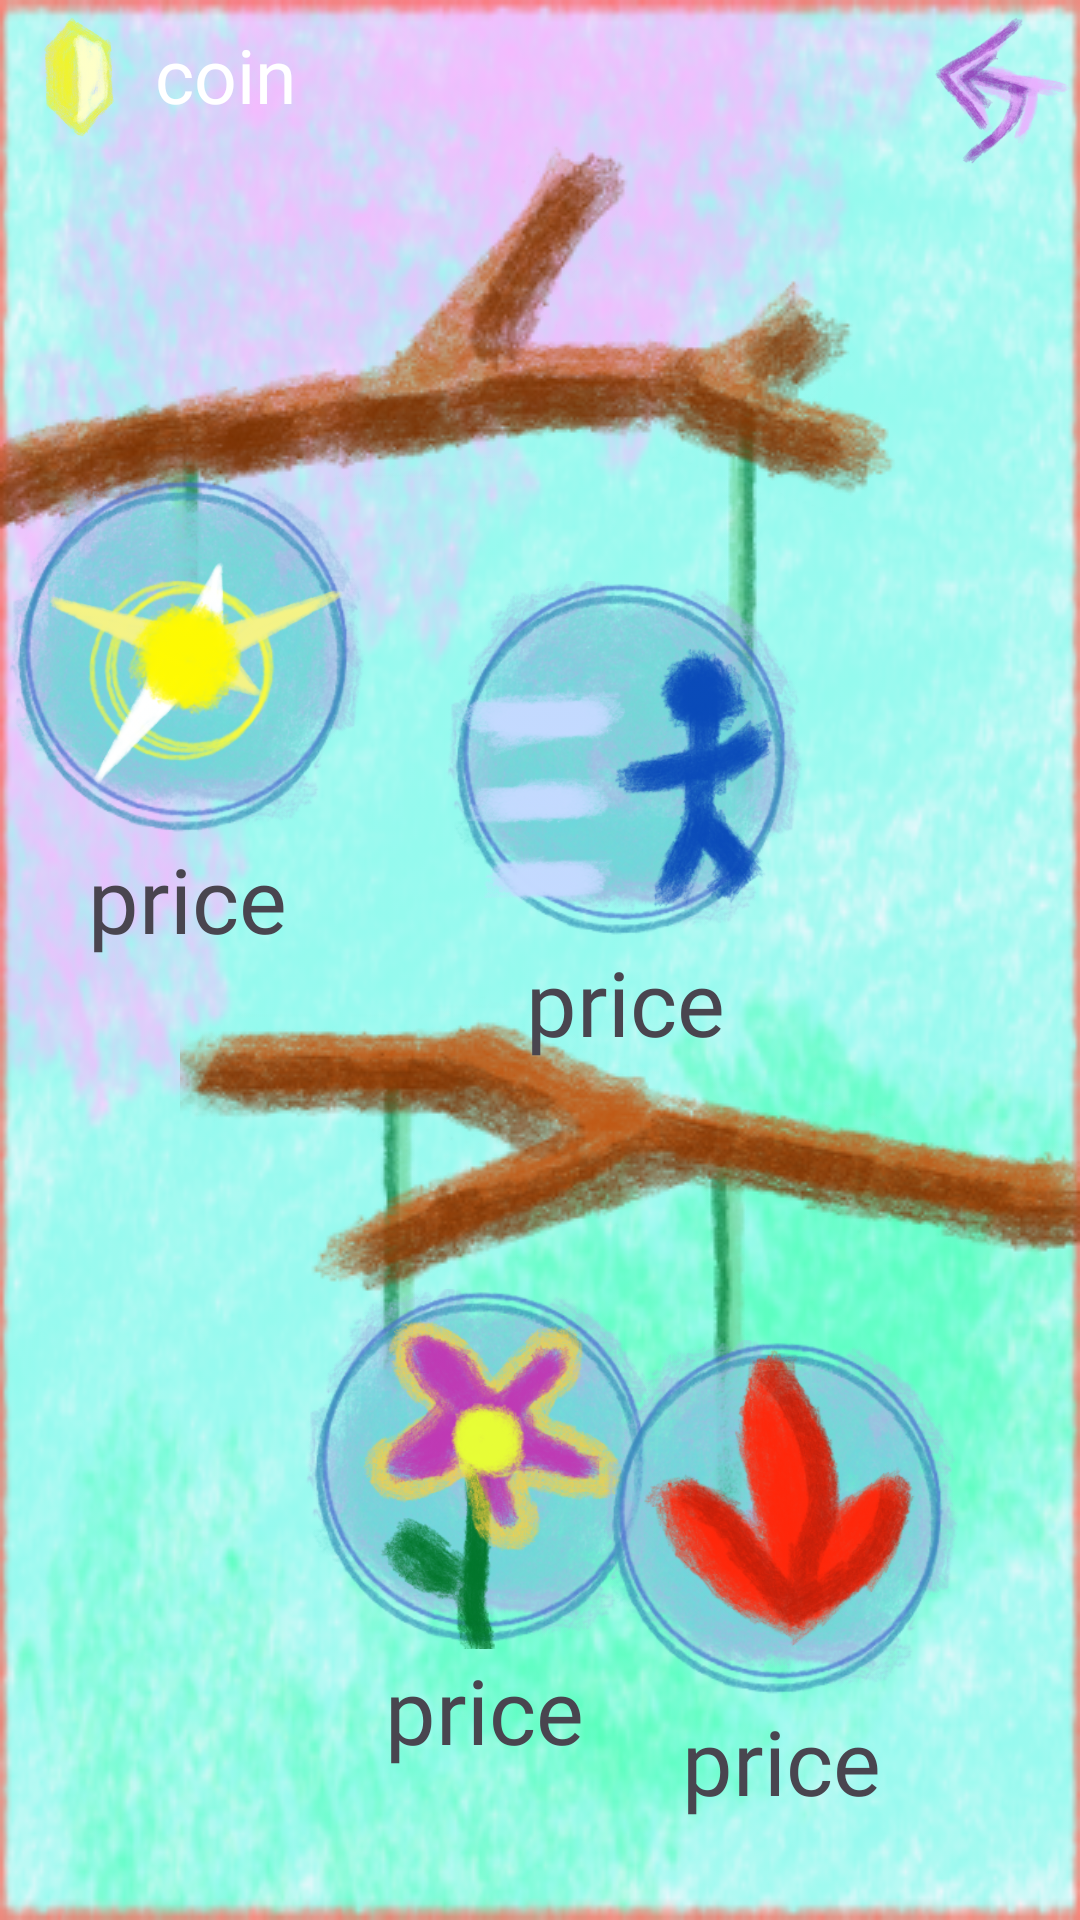

Icons on this 1080px×1920px Android screen, each with the point to tap as (x=x, y=y):
accelerate: (x=625, y=761)
burn: (x=781, y=1520)
glow: (x=187, y=658)
shop back: (x=975, y=105)
